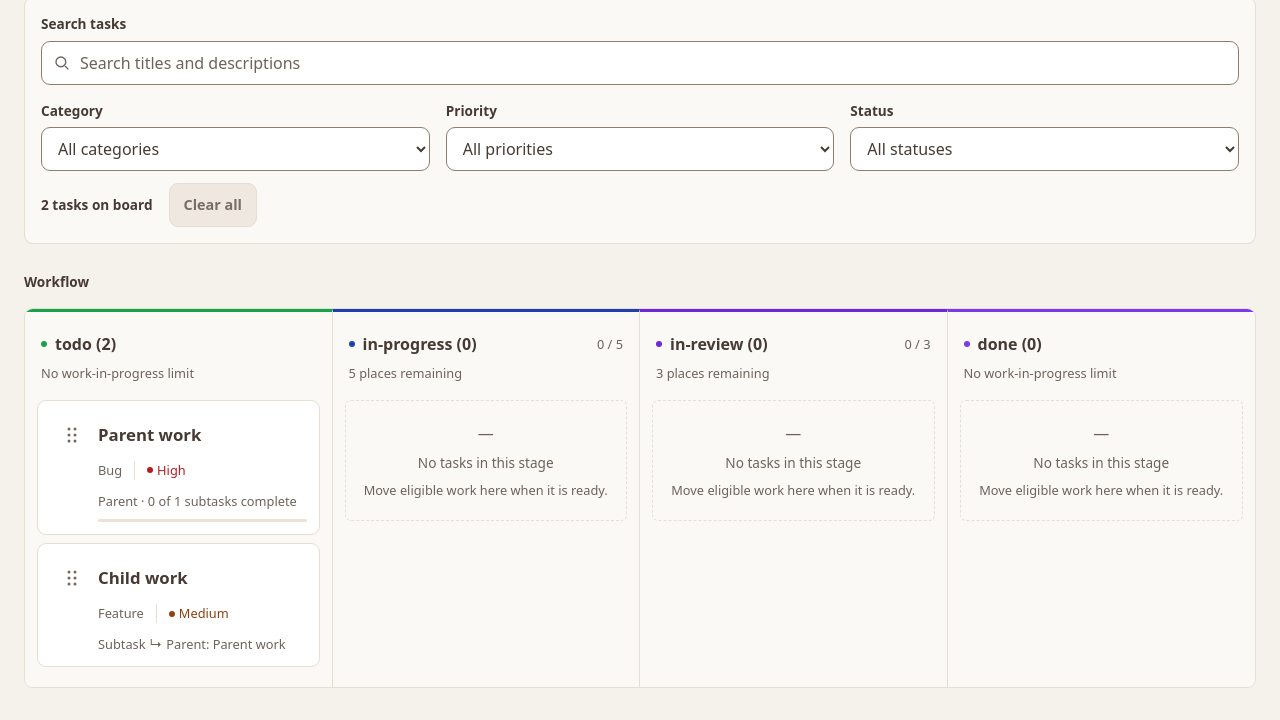
Scenario: linked task board interactions › deleting a child retains its parent and removes derived progress
(page scrolled)
Click the button with aria-label "Open task Child work". click: click(202, 578)
box: x1=98 y1=556 x2=306 y2=600
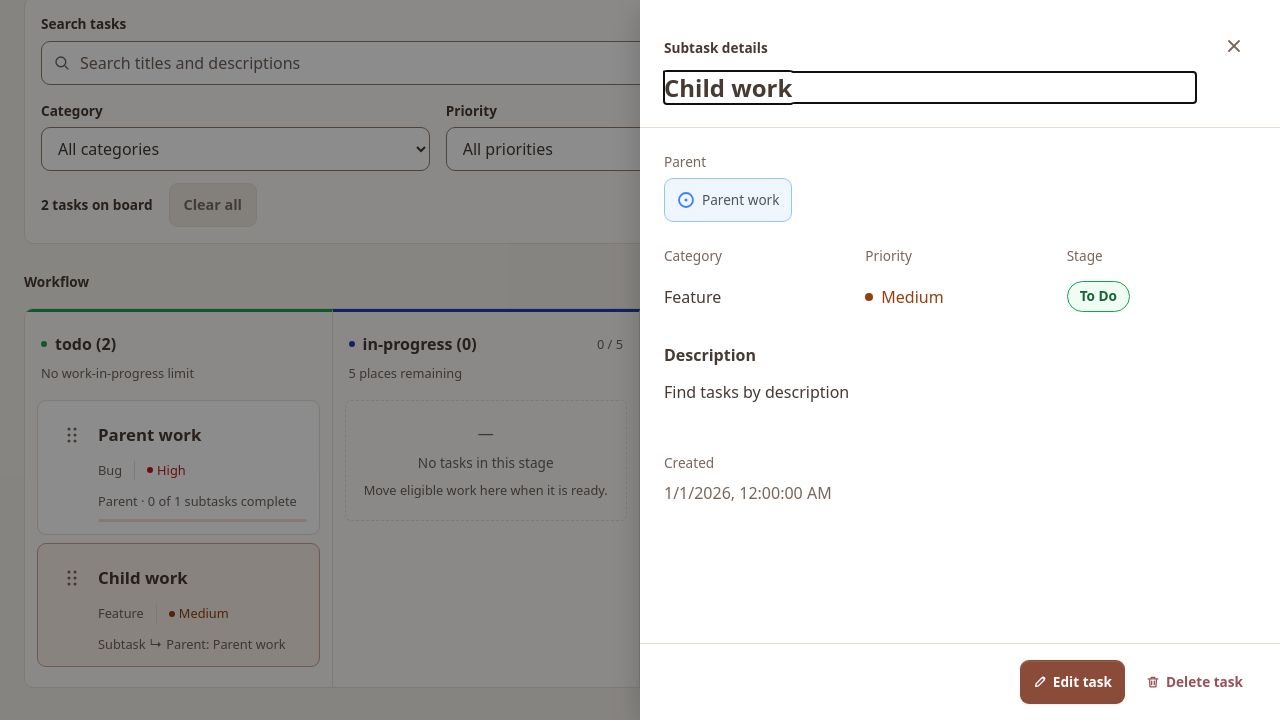
Click the button "Edit task". click: click(1072, 682)
box: x1=1020 y1=660 x2=1125 y2=704
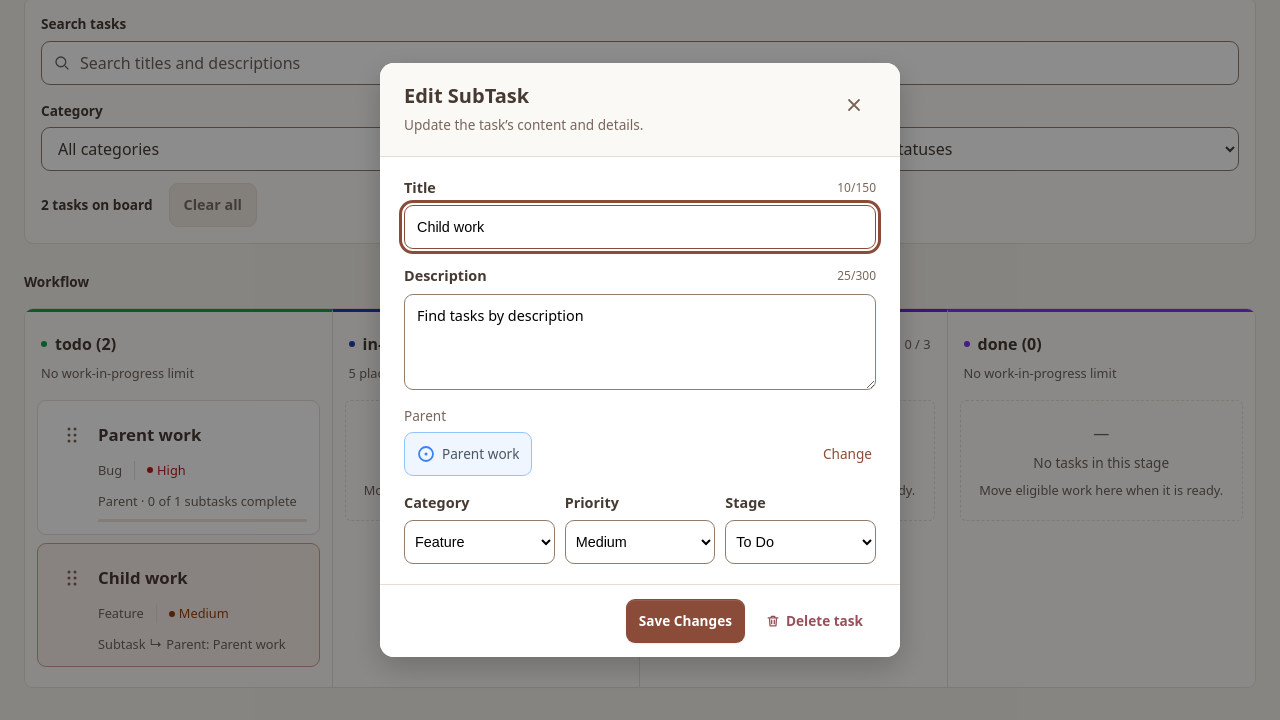
Click the button with aria-label "Delete task Child work". click: click(814, 621)
box: x1=753 y1=599 x2=876 y2=643
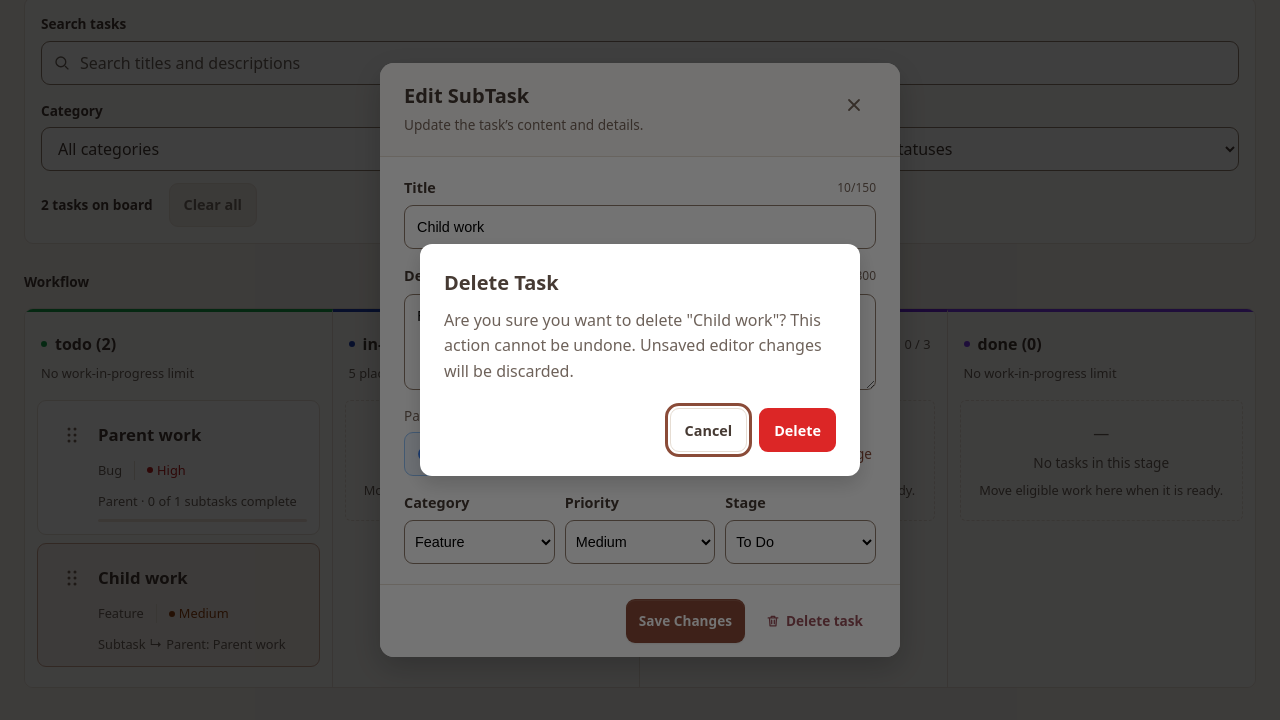
Click the button "Delete". click: click(798, 430)
box: x1=759 y1=408 x2=836 y2=452
(page scrolled)
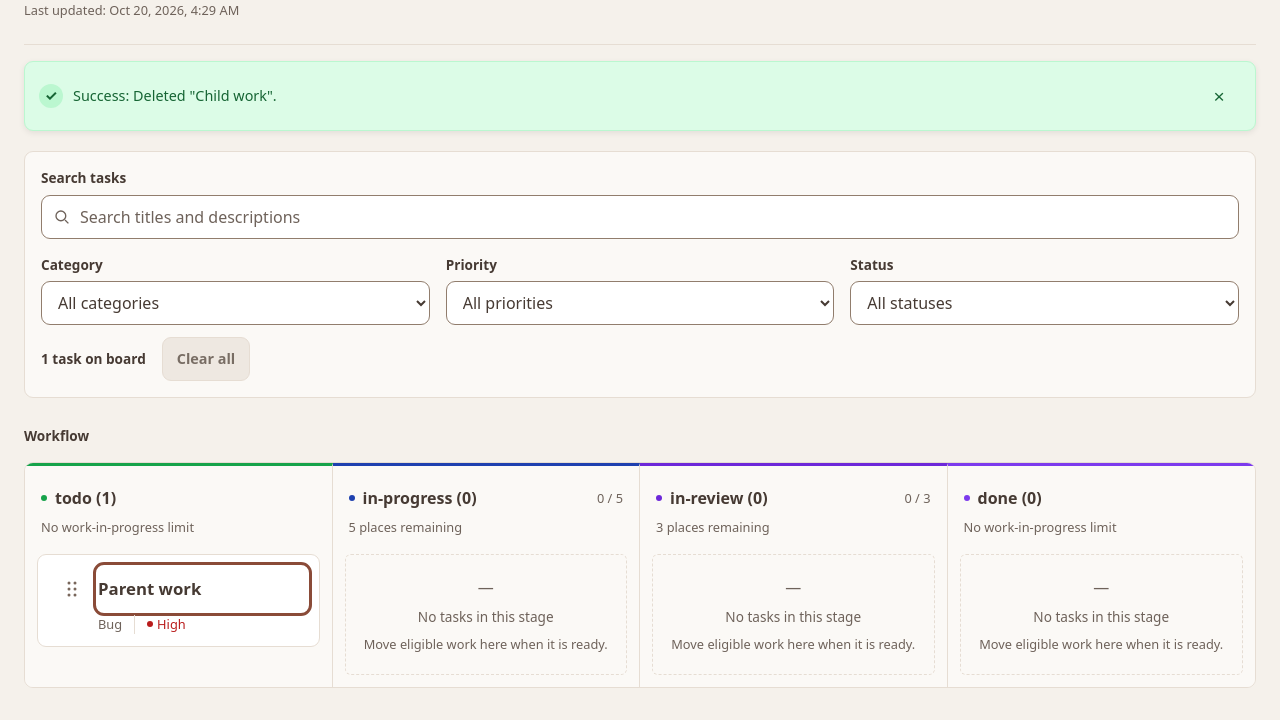
Expected: the progress indicator is gone
